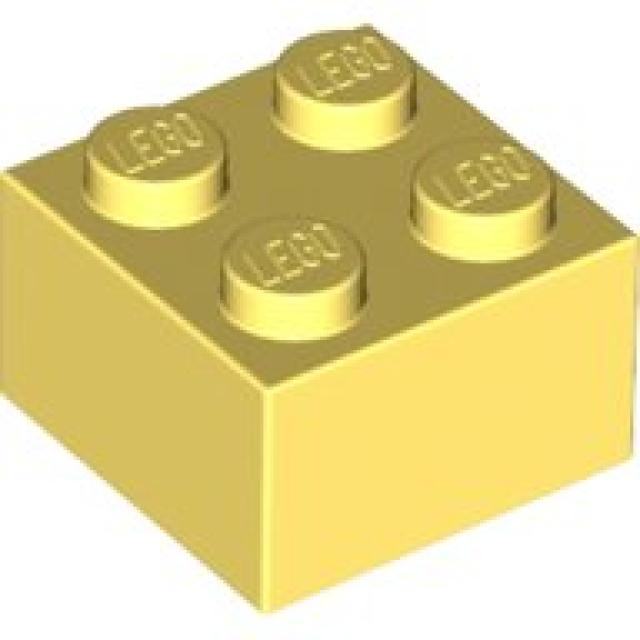Yellow_Medium: (0, 27, 640, 613)
